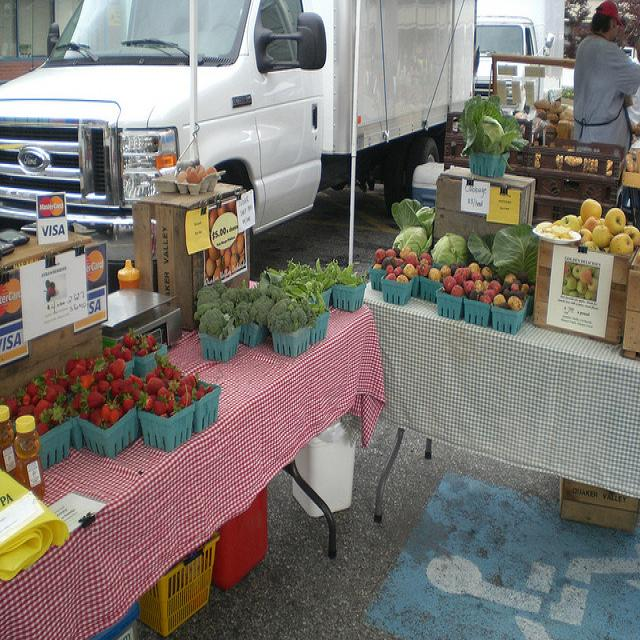Vehicle: (0, 0, 479, 234), (478, 7, 540, 92)
